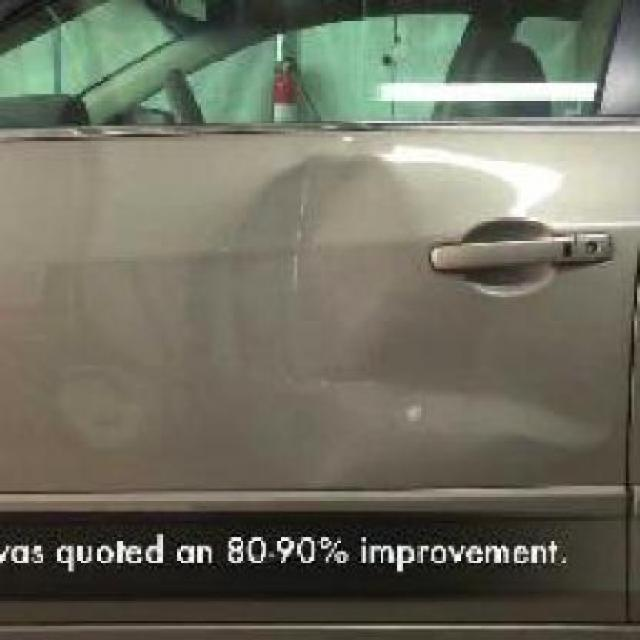dent-or-scratch: (234, 152, 416, 362)
